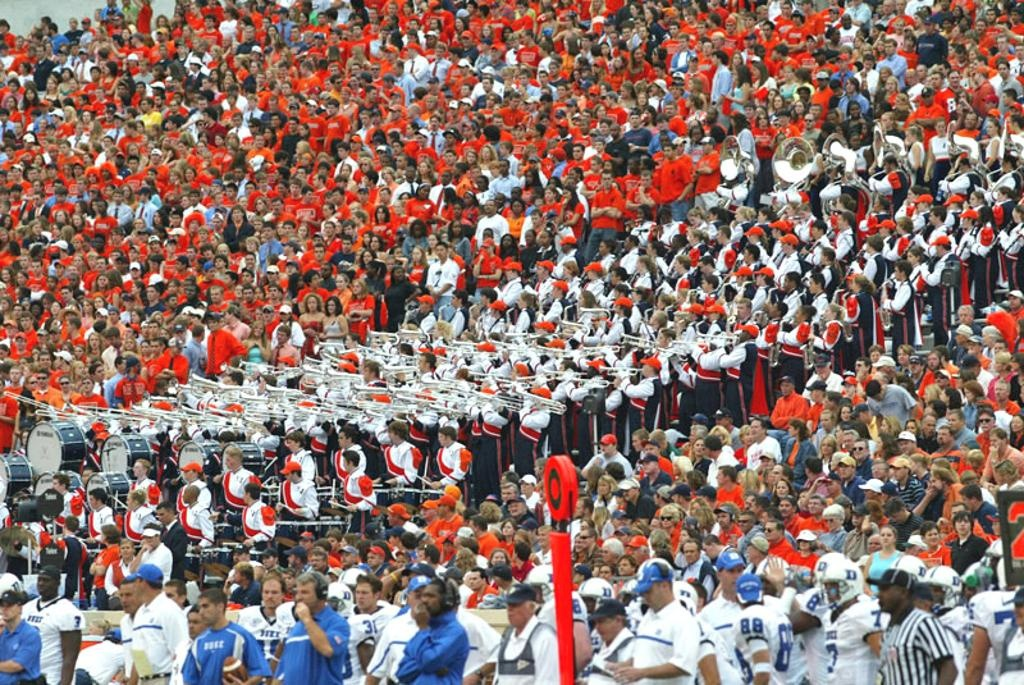human_face: (638, 574, 662, 608), (877, 579, 901, 611), (506, 592, 528, 626), (296, 578, 316, 612), (721, 560, 743, 590), (118, 583, 138, 613), (262, 578, 282, 608), (424, 584, 444, 614), (410, 584, 430, 614), (594, 614, 614, 642), (356, 580, 374, 610), (199, 598, 217, 624), (36, 568, 52, 594), (579, 590, 597, 612), (187, 612, 203, 636), (928, 582, 946, 603), (0, 600, 18, 620), (165, 584, 179, 608), (682, 542, 698, 562), (616, 556, 632, 576), (889, 507, 905, 525), (716, 508, 730, 528), (601, 542, 615, 562), (501, 485, 515, 503), (764, 522, 778, 540), (825, 512, 839, 530), (924, 526, 938, 544), (892, 462, 906, 480), (979, 413, 993, 431), (469, 570, 481, 590), (701, 540, 713, 560), (771, 464, 783, 484), (880, 526, 892, 546), (923, 417, 935, 437), (814, 360, 828, 377), (286, 549, 300, 565), (509, 500, 523, 516), (620, 484, 634, 500), (778, 500, 792, 516), (956, 516, 970, 532), (960, 492, 974, 508), (870, 462, 884, 478), (988, 433, 1002, 449), (962, 361, 976, 377), (233, 546, 245, 564), (156, 506, 168, 524), (367, 549, 379, 567), (310, 551, 322, 569), (575, 499, 587, 517), (493, 550, 505, 568), (747, 542, 759, 560), (853, 441, 865, 459), (750, 420, 762, 438), (930, 474, 942, 492), (906, 457, 918, 475), (948, 412, 960, 430), (994, 383, 1006, 401), (386, 509, 398, 526), (660, 511, 672, 528), (776, 480, 788, 497), (839, 458, 849, 478), (144, 530, 156, 546), (714, 468, 726, 484), (614, 514, 626, 530), (738, 514, 750, 530), (821, 438, 833, 454), (808, 496, 820, 512), (758, 512, 770, 528), (820, 412, 832, 428), (868, 537, 880, 553), (950, 505, 962, 521), (630, 542, 642, 558), (1010, 416, 1022, 432), (937, 428, 949, 444), (992, 356, 1004, 372), (938, 388, 950, 404), (935, 370, 947, 386), (927, 354, 939, 370), (909, 358, 921, 374), (876, 360, 888, 376), (808, 385, 820, 401), (893, 264, 905, 280), (755, 269, 767, 285), (224, 453, 236, 469), (286, 436, 298, 452), (438, 430, 450, 446), (388, 428, 400, 444), (896, 348, 908, 364), (92, 364, 104, 380), (334, 274, 346, 290), (52, 478, 62, 496), (340, 548, 350, 566), (437, 499, 449, 514), (580, 530, 590, 548), (574, 534, 584, 552), (538, 528, 548, 546), (523, 522, 533, 540), (641, 457, 653, 472), (690, 500, 700, 518), (799, 536, 811, 551), (824, 478, 836, 493), (880, 418, 890, 436), (964, 113, 976, 128), (854, 359, 866, 374), (126, 493, 136, 510), (851, 509, 861, 526), (342, 454, 352, 471), (557, 365, 567, 382), (281, 572, 293, 586), (480, 502, 492, 516), (600, 438, 612, 452), (644, 444, 656, 458), (714, 414, 726, 428), (899, 438, 911, 452), (966, 339, 978, 353), (872, 196, 884, 210), (640, 361, 652, 375), (690, 127, 702, 141), (594, 106, 606, 120), (756, 208, 768, 222), (306, 297, 318, 311), (252, 323, 264, 337), (206, 317, 218, 331), (222, 310, 234, 324), (536, 262, 548, 276), (434, 244, 446, 258), (364, 264, 376, 278), (560, 238, 572, 252), (426, 235, 438, 249), (550, 283, 562, 297), (232, 566, 242, 582), (243, 486, 253, 502), (182, 487, 192, 503), (120, 542, 130, 558), (88, 492, 98, 508), (262, 552, 272, 568), (468, 518, 478, 534), (632, 434, 642, 450), (694, 438, 704, 454), (598, 479, 608, 495), (678, 530, 688, 546), (671, 488, 681, 504), (854, 408, 864, 424), (744, 428, 754, 444), (690, 429, 700, 445), (863, 483, 873, 499), (1010, 355, 1020, 371), (780, 379, 790, 395), (824, 394, 834, 410), (958, 307, 968, 323), (981, 328, 991, 344), (824, 304, 834, 320), (770, 302, 780, 318), (700, 276, 710, 292), (132, 460, 142, 476), (184, 464, 194, 480), (284, 464, 294, 480), (338, 430, 348, 446), (996, 36, 1006, 52), (314, 244, 324, 260), (222, 374, 232, 390), (416, 354, 428, 367), (841, 405, 851, 420), (750, 499, 760, 514), (761, 455, 771, 470), (906, 421, 916, 436), (525, 170, 535, 185), (964, 478, 976, 490), (38, 354, 50, 366), (64, 311, 76, 323), (270, 198, 282, 210), (834, 57, 846, 69), (9, 370, 21, 382), (397, 557, 407, 571), (326, 534, 336, 548), (300, 536, 310, 550), (422, 504, 432, 518), (502, 521, 512, 535), (599, 566, 609, 580), (514, 535, 524, 549), (571, 568, 581, 582), (416, 550, 426, 564), (844, 434, 854, 448), (924, 402, 934, 416), (964, 387, 974, 401), (922, 387, 932, 401), (1008, 293, 1018, 307), (878, 223, 888, 237), (928, 210, 938, 224), (836, 214, 846, 228), (809, 278, 819, 292), (818, 250, 828, 264), (783, 274, 793, 288), (737, 302, 747, 316), (795, 308, 805, 322), (714, 229, 724, 243), (742, 248, 752, 262), (698, 260, 708, 274), (658, 332, 668, 346), (708, 307, 718, 321), (672, 257, 682, 271), (610, 270, 620, 284), (362, 365, 372, 379), (930, 73, 940, 87), (922, 91, 932, 105), (850, 134, 860, 148), (986, 120, 996, 134), (983, 97, 993, 111), (998, 63, 1008, 77), (1014, 46, 1024, 60), (772, 46, 782, 60), (772, 94, 782, 108), (670, 84, 680, 98), (663, 144, 673, 158), (573, 146, 583, 160), (590, 158, 600, 172), (640, 174, 650, 188), (601, 174, 611, 188), (671, 237, 681, 251), (186, 285, 196, 299), (147, 286, 157, 300), (89, 334, 99, 348), (26, 377, 36, 391), (20, 314, 30, 328), (15, 334, 25, 348), (40, 342, 50, 356), (308, 274, 318, 288), (253, 286, 263, 300), (266, 268, 276, 282), (210, 288, 220, 302), (223, 272, 233, 286), (244, 254, 254, 268), (326, 299, 336, 313), (352, 280, 362, 294), (540, 230, 550, 244), (506, 266, 516, 280), (450, 292, 460, 306), (517, 294, 527, 308), (490, 303, 500, 317), (418, 298, 428, 312), (412, 222, 422, 236), (432, 322, 442, 336), (476, 176, 486, 190), (420, 185, 430, 199), (440, 170, 450, 184), (466, 150, 476, 164), (514, 124, 524, 138), (445, 132, 455, 146), (417, 152, 427, 166), (416, 132, 426, 146), (188, 216, 198, 230), (110, 250, 120, 264), (955, 330, 965, 343), (968, 193, 978, 206), (811, 225, 821, 238), (985, 9, 995, 22), (642, 108, 652, 121), (660, 212, 670, 225), (60, 378, 70, 391), (37, 372, 47, 385), (54, 354, 64, 367), (489, 164, 499, 177), (406, 105, 416, 118), (2, 216, 12, 229), (100, 526, 108, 542), (744, 494, 752, 510), (799, 490, 807, 506), (844, 379, 852, 394), (994, 343, 1004, 355), (935, 242, 945, 254), (906, 252, 916, 264), (916, 198, 926, 210), (906, 188, 916, 200), (850, 278, 860, 290), (748, 230, 758, 242), (688, 214, 698, 226), (736, 272, 746, 284), (634, 258, 644, 270), (587, 266, 597, 278), (648, 312, 658, 324), (936, 65, 946, 77), (849, 104, 859, 116), (880, 114, 890, 126), (778, 113, 788, 125), (904, 36, 914, 48), (882, 1, 892, 13), (826, 114, 836, 126), (794, 101, 804, 113), (810, 104, 820, 116), (790, 13, 800, 25), (954, 49, 964, 61), (751, 65, 761, 77), (710, 53, 720, 65), (724, 20, 734, 32), (744, 14, 754, 26), (668, 25, 678, 37), (636, 93, 646, 105), (664, 104, 674, 116), (632, 49, 642, 61), (650, 82, 660, 94), (685, 96, 695, 108), (659, 135, 669, 147), (578, 121, 588, 133), (870, 350, 880, 362), (734, 209, 744, 221), (708, 210, 718, 222), (24, 88, 34, 100), (134, 83, 144, 95), (148, 323, 158, 335), (140, 343, 150, 355), (74, 362, 84, 374), (66, 320, 76, 332), (124, 296, 134, 308), (61, 288, 71, 300), (42, 296, 52, 308), (30, 303, 40, 315), (131, 282, 141, 294), (176, 258, 186, 270), (149, 258, 159, 270), (96, 258, 106, 270), (30, 261, 40, 273), (116, 258, 126, 270), (48, 318, 58, 330), (30, 349, 40, 361), (276, 330, 286, 342), (278, 308, 288, 320), (243, 288, 253, 300), (285, 263, 295, 275), (282, 243, 292, 255), (242, 270, 252, 282), (205, 267, 215, 279), (214, 257, 224, 269), (246, 240, 256, 252), (202, 246, 212, 258), (190, 312, 200, 324), (562, 264, 572, 276), (524, 230, 534, 242), (502, 234, 512, 246), (394, 268, 404, 280), (412, 248, 422, 260), (322, 266, 332, 278), (479, 292, 489, 304), (341, 238, 351, 250), (362, 233, 372, 245), (482, 229, 492, 241), (312, 234, 322, 246), (150, 151, 160, 163), (128, 158, 138, 170), (72, 164, 82, 176), (46, 164, 56, 176), (512, 201, 522, 213), (498, 160, 508, 172), (484, 200, 494, 212), (494, 192, 502, 207), (471, 168, 481, 180), (480, 146, 490, 158), (498, 144, 508, 156), (462, 124, 472, 136), (493, 117, 503, 129), (424, 97, 434, 109), (394, 155, 404, 167), (340, 88, 350, 100), (402, 2, 412, 14), (236, 18, 246, 30), (360, 160, 370, 172), (379, 188, 389, 200), (362, 172, 372, 184), (262, 224, 272, 236), (252, 219, 262, 231), (188, 192, 198, 204), (276, 182, 286, 194), (258, 177, 268, 189), (245, 183, 255, 195), (54, 190, 64, 202), (15, 288, 25, 300), (12, 304, 22, 316), (742, 36, 754, 46), (388, 532, 396, 546), (788, 422, 796, 436), (1016, 322, 1024, 336), (896, 220, 904, 234), (624, 235, 632, 249), (950, 72, 958, 86), (936, 120, 944, 134), (846, 79, 854, 93), (804, 114, 812, 128), (1002, 91, 1010, 105), (1007, 116, 1015, 130), (650, 48, 658, 62), (734, 68, 742, 82), (562, 188, 570, 202), (568, 169, 576, 183), (582, 110, 590, 124), (590, 131, 598, 145), (636, 208, 644, 222), (46, 276, 54, 290), (484, 240, 492, 254), (370, 236, 378, 250), (184, 166, 192, 180), (558, 122, 566, 136), (369, 86, 377, 100), (290, 181, 298, 195), (94, 234, 102, 248), (770, 226, 780, 237), (656, 117, 666, 128), (602, 160, 612, 171), (638, 160, 648, 171), (784, 204, 794, 215), (172, 342, 182, 353), (106, 332, 116, 343), (22, 366, 32, 377), (166, 241, 176, 252), (323, 223, 333, 234), (343, 226, 353, 237), (198, 134, 208, 145), (356, 188, 366, 199), (351, 211, 361, 222), (646, 242, 654, 255), (600, 121, 608, 134), (82, 378, 90, 391), (609, 32, 617, 45), (520, 482, 530, 492), (997, 189, 1007, 199), (962, 216, 972, 226), (884, 42, 894, 52), (942, 19, 952, 29), (800, 2, 810, 12), (798, 208, 808, 218), (56, 52, 66, 62), (174, 329, 184, 339), (130, 312, 140, 322), (18, 256, 28, 266), (60, 344, 70, 354), (20, 301, 30, 311), (234, 286, 244, 296), (176, 142, 186, 152), (122, 124, 132, 134), (128, 146, 138, 156), (82, 154, 92, 164), (444, 154, 454, 164), (540, 99, 550, 109), (434, 46, 444, 56), (424, 34, 434, 44), (382, 77, 392, 87), (336, 146, 346, 156), (392, 202, 402, 212), (232, 210, 242, 220), (170, 213, 180, 223), (226, 135, 236, 145), (294, 142, 304, 152), (54, 182, 64, 192), (0, 191, 10, 201), (4, 324, 14, 334), (4, 146, 14, 156), (442, 540, 450, 552), (870, 392, 882, 400), (866, 240, 874, 252), (835, 197, 843, 209), (781, 240, 789, 252), (741, 328, 749, 340), (688, 231, 696, 243), (599, 242, 607, 254), (958, 92, 966, 104), (905, 72, 913, 84), (916, 66, 924, 78), (896, 97, 904, 109), (904, 130, 912, 142), (880, 68, 888, 80), (832, 28, 840, 40), (864, 58, 872, 70), (843, 16, 851, 28), (832, 84, 840, 96), (874, 104, 882, 116), (860, 123, 868, 135), (1011, 10, 1019, 22), (976, 20, 984, 32), (762, 24, 770, 36), (759, 114, 767, 126), (744, 105, 752, 117), (706, 108, 714, 120), (712, 34, 720, 46), (760, 4, 768, 16), (677, 36, 685, 48), (685, 10, 693, 22), (630, 115, 638, 127), (630, 4, 638, 16), (676, 141, 684, 153), (566, 178, 574, 190), (609, 124, 617, 136), (566, 100, 574, 112), (128, 57, 136, 69), (62, 68, 70, 80), (138, 60, 146, 72), (99, 60, 107, 72), (8, 80, 16, 92), (160, 328, 168, 340), (119, 359, 127, 371), (168, 296, 176, 308), (153, 314, 161, 326), (108, 310, 116, 322), (94, 296, 102, 308), (82, 301, 90, 313), (51, 302, 59, 314), (130, 266, 138, 278), (168, 281, 176, 293), (68, 275, 76, 287), (124, 327, 132, 339), (19, 358, 27, 370), (142, 323, 150, 335), (268, 286, 276, 298), (263, 308, 271, 320), (255, 308, 263, 320), (218, 317, 226, 329), (578, 292, 586, 304), (386, 258, 394, 270), (362, 252, 370, 264), (298, 226, 306, 238), (154, 94, 162, 106), (202, 110, 210, 122), (166, 117, 174, 129), (81, 111, 89, 123), (103, 136, 111, 148), (49, 147, 57, 159), (162, 136, 170, 148), (75, 122, 83, 134), (62, 106, 70, 118), (124, 108, 132, 120), (146, 168, 154, 180), (10, 167, 18, 179), (100, 166, 108, 178), (544, 188, 552, 200), (531, 212, 539, 224), (510, 187, 518, 199), (453, 204, 461, 216), (419, 162, 427, 174), (452, 164, 460, 176), (430, 116, 438, 128), (462, 191, 470, 203), (622, 27, 630, 39), (620, 85, 628, 97), (510, 96, 518, 108), (539, 72, 547, 84), (581, 36, 589, 48), (482, 78, 490, 90), (462, 34, 470, 46), (460, 100, 468, 112), (486, 94, 494, 106), (518, 73, 526, 85), (429, 78, 437, 90), (458, 63, 466, 75), (350, 77, 358, 89), (406, 168, 414, 180), (392, 141, 400, 153), (287, 119, 295, 131), (298, 124, 306, 136), (333, 76, 341, 88), (330, 28, 338, 40), (380, 29, 388, 41), (466, 2, 474, 14), (384, 48, 392, 60), (222, 34, 230, 46), (278, 64, 286, 76), (250, 60, 258, 72), (270, 114, 278, 126), (248, 121, 256, 133), (264, 126, 272, 138), (383, 169, 391, 181), (376, 208, 384, 220), (322, 204, 330, 216), (304, 189, 312, 201), (312, 174, 320, 186), (254, 199, 262, 211), (211, 180, 219, 192), (150, 238, 158, 250), (128, 248, 136, 260), (121, 186, 129, 198), (97, 200, 105, 212), (56, 210, 64, 222), (106, 184, 114, 196), (88, 170, 96, 182), (207, 168, 215, 180), (76, 178, 84, 190), (32, 194, 40, 206), (52, 224, 60, 236), (516, 2, 524, 14), (345, 335, 353, 347), (924, 20, 932, 31), (799, 89, 807, 100), (690, 57, 698, 68), (768, 89, 776, 100), (703, 43, 711, 54), (595, 139, 603, 150), (71, 43, 79, 54), (150, 340, 158, 351), (124, 337, 132, 348), (218, 245, 226, 256), (140, 100, 148, 111), (12, 121, 20, 132), (62, 163, 70, 174), (529, 158, 537, 169), (615, 57, 623, 68), (490, 46, 498, 57), (288, 7, 296, 18), (350, 139, 358, 150), (256, 135, 264, 146), (400, 193, 408, 204), (277, 222, 285, 233), (332, 192, 340, 203), (319, 163, 327, 174), (239, 196, 247, 207), (225, 185, 233, 196), (296, 167, 304, 178), (234, 167, 242, 178), (154, 211, 162, 222), (114, 192, 122, 203), (134, 219, 142, 230), (72, 237, 80, 248), (112, 230, 120, 241), (32, 223, 40, 234), (0, 349, 7, 361), (691, 418, 699, 428), (886, 80, 894, 90), (913, 16, 921, 26), (939, 0, 949, 8), (920, 7, 928, 17), (896, 1, 904, 11), (876, 4, 884, 14), (876, 41, 884, 51), (872, 27, 880, 37), (806, 38, 814, 48), (783, 4, 791, 14), (830, 9, 838, 19), (818, 76, 826, 86), (840, 48, 848, 58), (783, 68, 791, 78), (972, 70, 980, 80), (952, 7, 960, 17), (733, 54, 741, 64), (688, 78, 696, 88), (696, 23, 704, 33), (696, 39, 704, 49), (654, 67, 662, 77), (702, 142, 710, 152), (627, 159, 635, 169), (36, 47, 44, 57), (91, 68, 99, 78), (68, 19, 76, 29), (79, 50, 87, 60), (47, 79, 55, 89), (117, 84, 125, 94), (94, 89, 102, 99), (130, 34, 138, 44), (113, 14, 121, 24), (26, 46, 34, 56), (45, 25, 53, 35), (205, 17, 213, 27), (224, 71, 232, 81), (210, 71, 218, 81), (97, 276, 105, 286), (74, 346, 82, 356), (96, 312, 104, 322), (55, 264, 63, 274), (73, 256, 81, 266), (87, 257, 95, 267), (50, 330, 58, 340), (186, 248, 194, 258), (393, 249, 401, 259), (452, 225, 460, 235), (332, 222, 340, 232), (198, 100, 206, 110), (201, 79, 209, 89), (152, 84, 160, 94), (197, 121, 205, 131), (189, 60, 197, 70), (50, 113, 58, 123), (114, 116, 122, 126), (172, 78, 180, 88), (197, 142, 205, 152), (60, 143, 68, 153), (134, 122, 142, 132), (39, 119, 47, 129), (116, 154, 124, 164), (104, 148, 112, 158), (28, 169, 36, 179), (25, 138, 33, 148), (46, 126, 54, 136), (535, 197, 543, 207), (548, 64, 556, 74), (455, 19, 463, 29), (520, 32, 528, 42), (461, 84, 469, 94), (482, 26, 490, 36), (601, 85, 609, 95), (429, 18, 437, 28), (406, 32, 414, 42), (406, 124, 414, 134), (370, 65, 378, 75), (406, 46, 414, 56), (181, 0, 189, 10), (244, 27, 252, 37), (267, 26, 275, 36), (368, 8, 376, 18), (386, 16, 394, 26), (448, 51, 456, 61), (298, 63, 306, 73), (298, 12, 306, 22), (276, 10, 284, 20), (391, 93, 399, 103), (360, 114, 368, 124), (390, 110, 400, 118), (232, 57, 240, 67), (256, 74, 264, 84), (281, 83, 289, 93), (289, 107, 297, 117), (377, 148, 385, 158), (214, 135, 222, 145), (341, 166, 349, 176), (284, 223, 292, 233), (198, 230, 206, 240), (180, 196, 188, 206), (324, 193, 332, 203), (215, 192, 223, 202), (300, 154, 308, 164), (280, 155, 288, 165), (169, 172, 177, 182), (138, 192, 146, 202), (140, 180, 148, 190), (91, 201, 99, 211), (73, 215, 81, 225), (88, 189, 96, 199), (74, 202, 82, 212), (34, 182, 42, 192), (11, 188, 19, 198), (502, 28, 510, 38), (0, 230, 8, 240), (39, 104, 47, 114), (156, 32, 164, 42), (948, 199, 956, 208), (896, 20, 902, 32), (862, 46, 870, 55), (948, 45, 954, 57), (968, 50, 974, 62), (638, 27, 646, 36), (644, 8, 650, 20), (606, 93, 614, 102), (94, 8, 100, 20), (224, 78, 230, 90), (68, 266, 76, 275), (18, 272, 24, 284), (7, 96, 13, 108), (34, 154, 40, 166), (548, 177, 556, 186), (601, 44, 609, 53), (388, 2, 394, 14), (394, 62, 400, 74), (327, 103, 335, 112), (408, 20, 416, 29), (290, 26, 296, 38), (251, 48, 259, 57), (220, 60, 226, 72), (372, 112, 380, 121), (348, 206, 356, 215), (213, 218, 221, 227), (537, 44, 545, 53), (0, 300, 8, 309), (1, 270, 9, 279), (0, 22, 7, 32), (82, 19, 88, 30), (45, 43, 51, 54), (68, 80, 76, 88), (36, 332, 44, 340), (176, 44, 184, 52), (169, 102, 177, 110), (104, 110, 112, 118), (556, 87, 564, 95), (572, 70, 580, 78), (314, 37, 322, 45), (316, 14, 324, 22), (370, 20, 378, 28), (444, 95, 452, 103), (350, 64, 358, 72), (226, 96, 234, 104), (288, 96, 296, 104), (374, 138, 382, 146), (232, 114, 240, 122), (854, 37, 860, 47), (104, 64, 110, 74), (19, 63, 25, 73), (174, 93, 180, 103), (183, 26, 189, 36), (150, 126, 156, 136), (532, 126, 538, 136), (564, 16, 570, 26), (190, 5, 196, 15), (262, 16, 268, 26), (352, 25, 358, 35), (450, 105, 456, 115), (324, 80, 330, 90), (306, 103, 312, 113), (268, 99, 274, 109), (0, 112, 7, 120), (160, 46, 166, 55), (122, 30, 128, 38), (16, 38, 22, 46), (78, 96, 84, 104), (158, 18, 164, 26), (210, 48, 216, 56), (330, 66, 336, 74), (222, 8, 228, 16), (248, 99, 254, 107), (192, 40, 198, 46)
